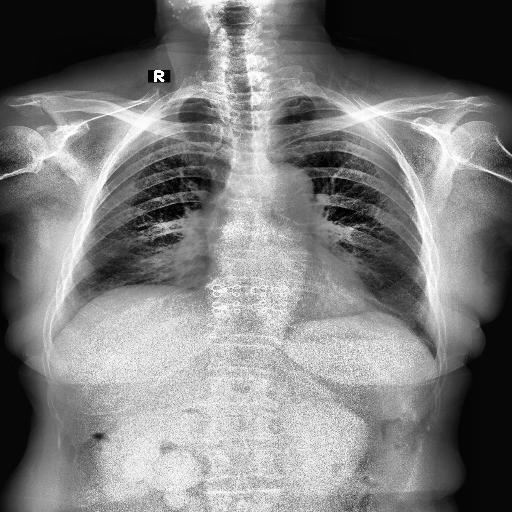0- Aortic enlargement: (252, 162, 312, 227), (252, 161, 316, 212), (264, 164, 314, 213)
11- Pleural thickening: (164, 96, 216, 106)
